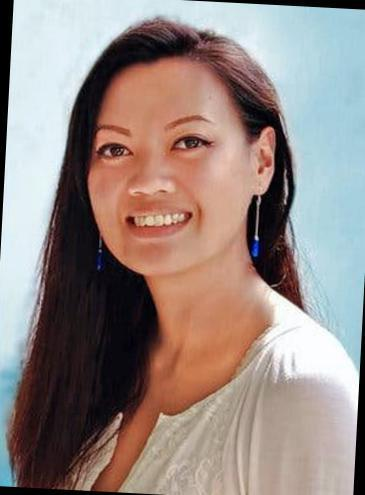Sober: (93, 69, 245, 267)
